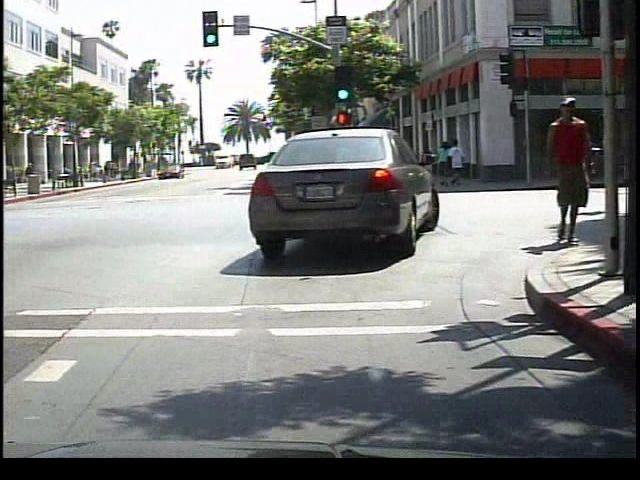person: (531, 90, 595, 256), (18, 158, 36, 189)
